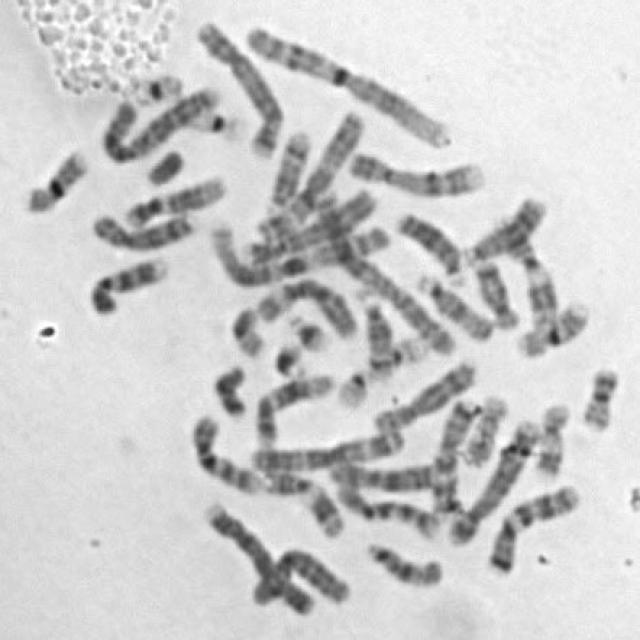A1: (238, 15, 456, 151), (201, 212, 391, 289)
A2: (304, 181, 463, 359), (94, 76, 223, 166)
A3: (252, 102, 369, 248), (246, 422, 408, 476)
B4: (195, 494, 318, 620), (233, 180, 382, 272)
B5: (190, 13, 286, 160), (445, 413, 543, 547)
C10: (184, 405, 268, 498), (329, 477, 443, 543)
C11: (486, 207, 560, 331), (259, 465, 348, 541)
C12: (250, 365, 339, 447), (116, 166, 229, 230)
C6: (250, 269, 364, 343), (244, 540, 354, 612)
C7: (479, 476, 585, 578), (424, 390, 481, 522)
C8: (368, 352, 481, 435), (85, 203, 198, 254)
C9: (341, 142, 486, 200), (81, 248, 171, 317)
D13: (455, 187, 550, 268), (388, 202, 468, 287)
D14: (262, 120, 316, 210), (350, 281, 397, 383)
D15: (408, 266, 496, 344), (358, 534, 446, 589)
E16: (511, 292, 594, 361), (17, 142, 93, 217)
E17: (458, 386, 512, 469), (527, 395, 572, 480)
E18: (468, 253, 522, 332), (206, 357, 250, 419)
F19: (120, 62, 187, 108), (186, 102, 250, 142)
F20: (574, 357, 622, 434), (224, 299, 268, 360)
G21: (281, 305, 333, 353), (266, 335, 310, 380)
G22: (330, 362, 372, 411), (381, 328, 430, 370)
X: (323, 452, 446, 494)
Y: (138, 140, 186, 188)
